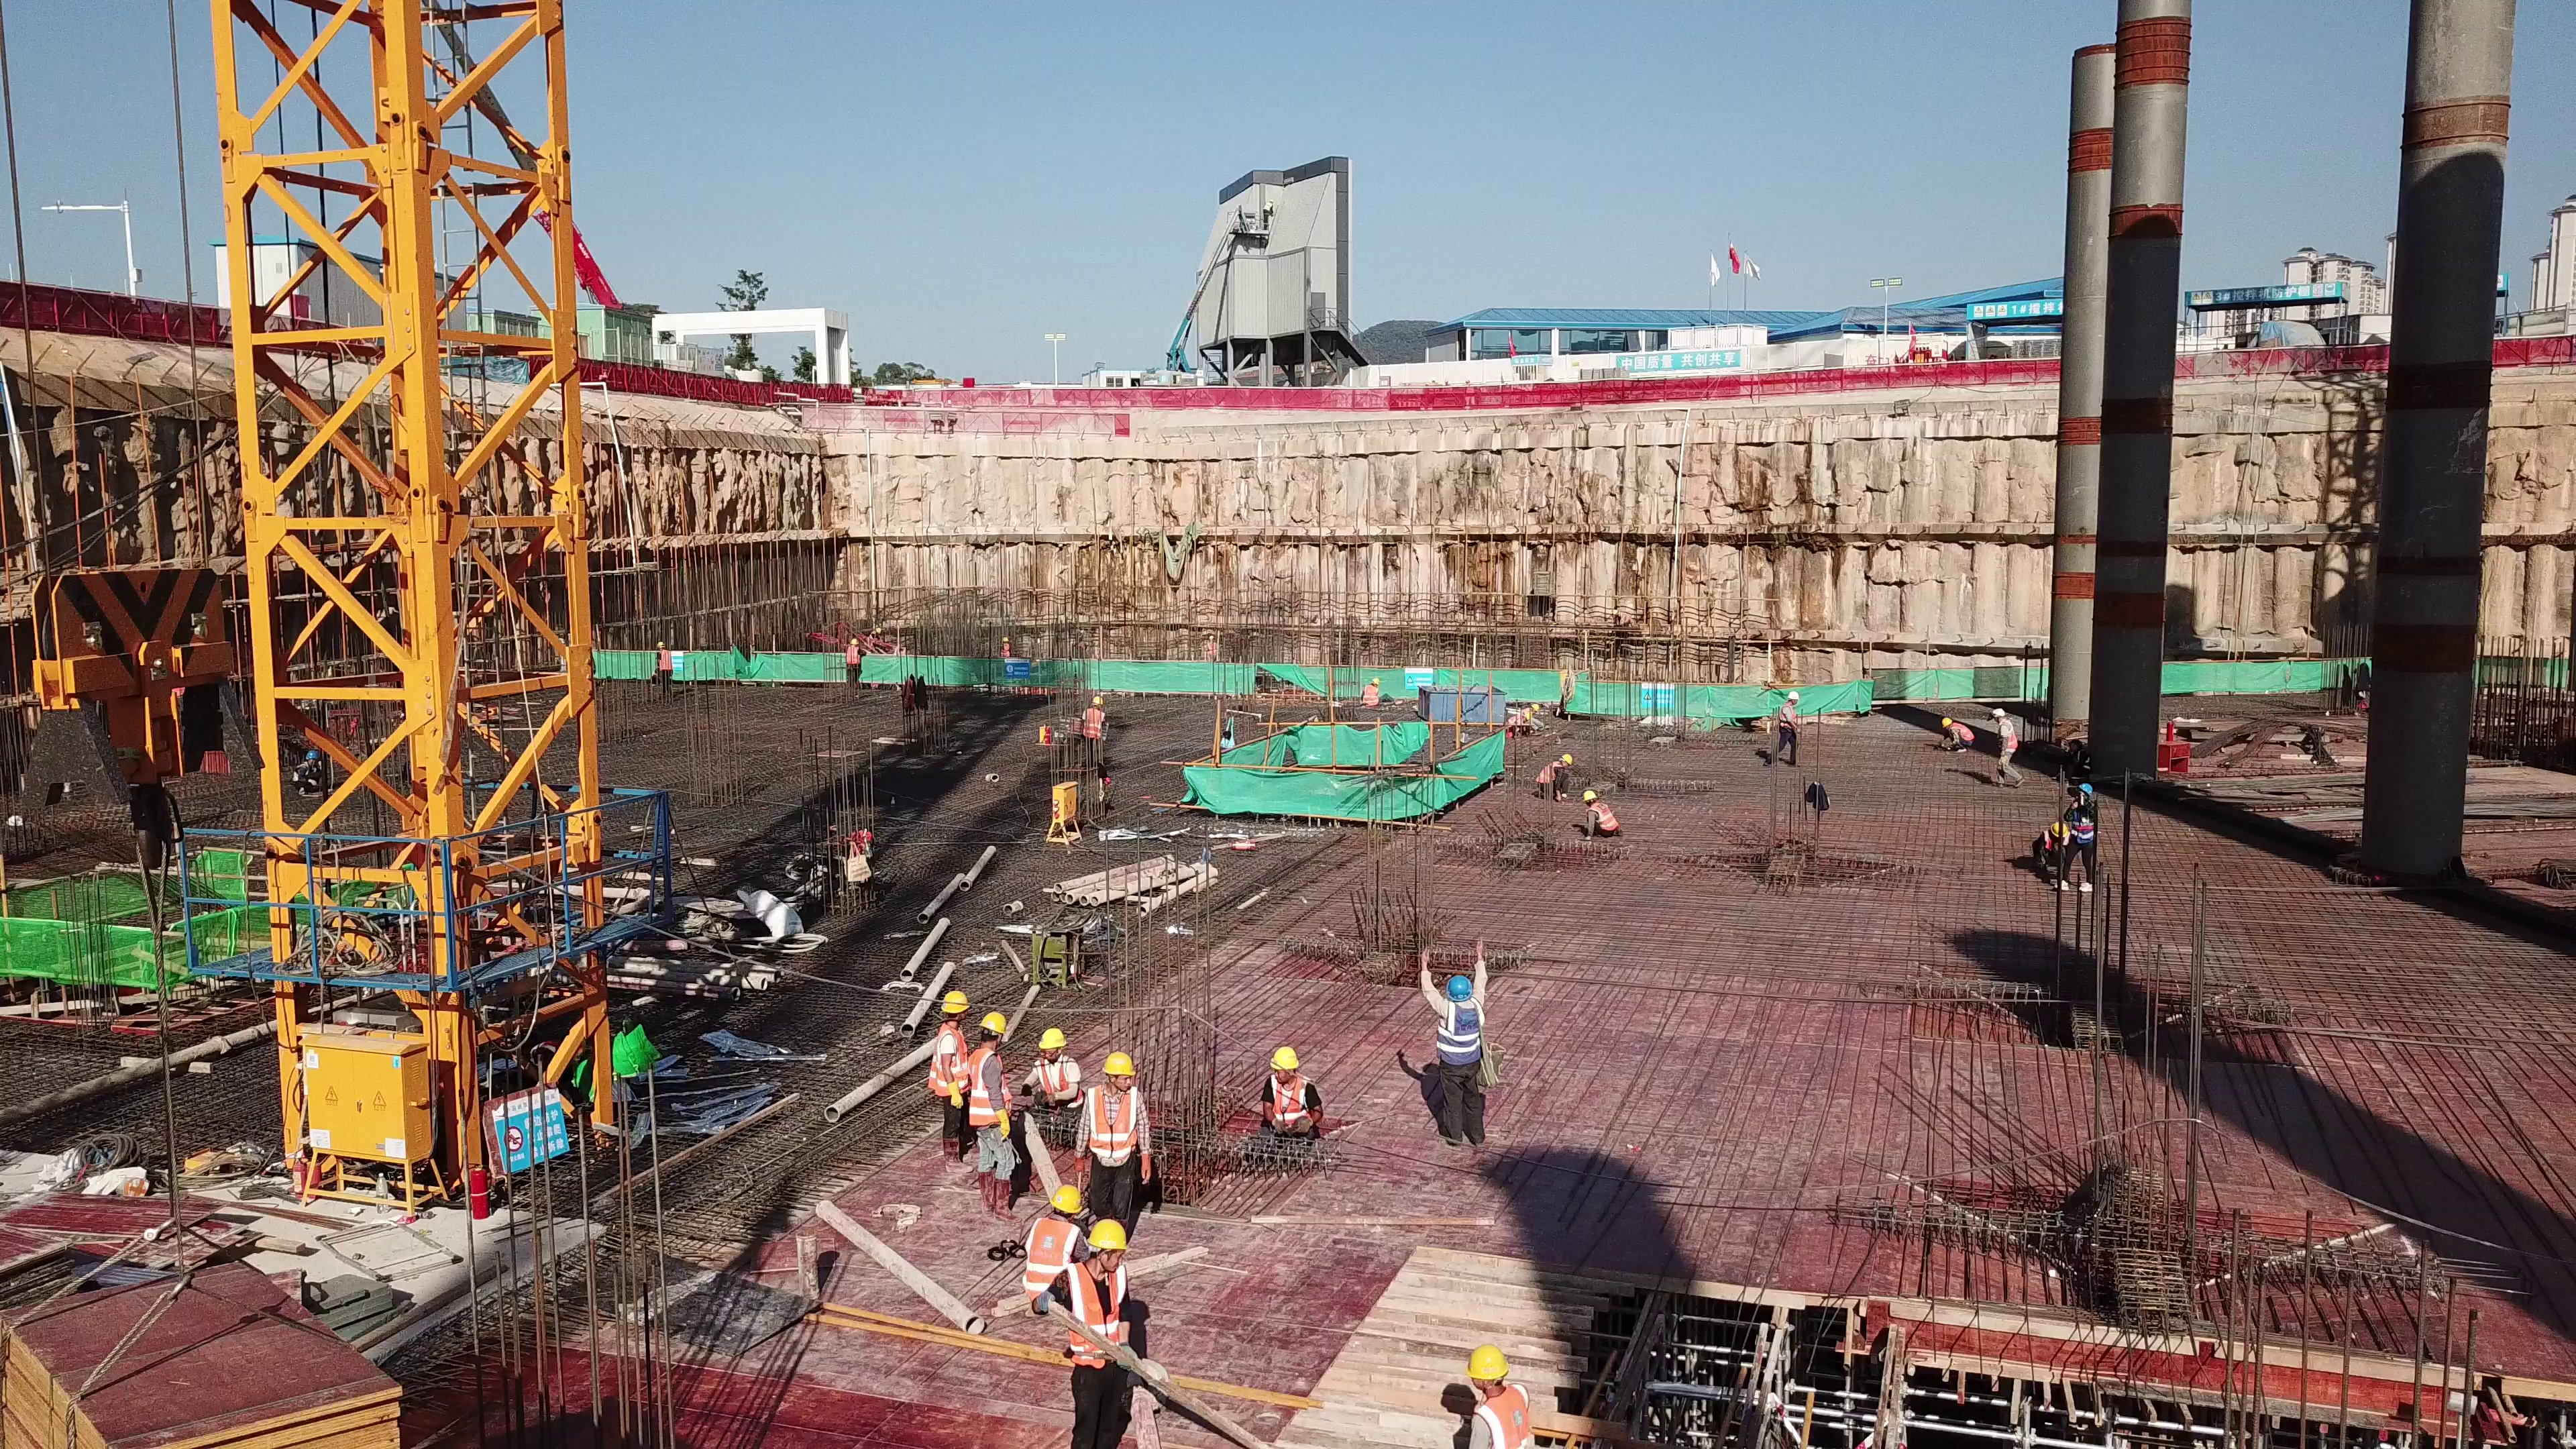helmet: (1468, 1338, 1519, 1382), (1087, 1216, 1129, 1252), (1272, 1042, 1311, 1079), (1102, 1042, 1142, 1075), (1438, 969, 1474, 1004), (1049, 1178, 1081, 1214), (982, 1009, 1009, 1040), (1035, 1030, 1071, 1046), (941, 991, 970, 1010), (1576, 790, 1599, 804), (2051, 820, 2070, 835), (2078, 782, 2094, 796), (1941, 714, 1954, 725), (1091, 695, 1107, 706), (1788, 689, 1800, 700), (1993, 708, 2007, 716), (1560, 753, 1573, 763), (307, 750, 321, 759), (1531, 703, 1541, 712), (1525, 710, 1532, 720), (847, 638, 858, 646), (657, 640, 667, 648), (1373, 676, 1381, 684), (875, 628, 883, 633)
person: (1413, 938, 1532, 1160), (1075, 1216, 1144, 1443), (1238, 1032, 1343, 1140), (969, 1004, 1020, 1223), (1446, 1348, 1548, 1449), (1079, 1051, 1155, 1183), (932, 989, 975, 1182), (1022, 1023, 1086, 1109), (2063, 781, 2101, 898), (1026, 1184, 1086, 1258), (1986, 706, 2032, 787), (1768, 688, 1805, 769), (1577, 788, 1626, 845), (1078, 696, 1112, 772), (2029, 819, 2072, 873), (1535, 752, 1578, 806), (291, 748, 326, 808), (647, 637, 680, 699), (1941, 711, 1973, 758), (840, 637, 865, 693), (1511, 700, 1546, 739), (1356, 677, 1388, 710), (1198, 631, 1224, 664), (1608, 604, 1642, 628), (998, 634, 1014, 662), (867, 626, 886, 644)
vest: (1079, 1263, 1125, 1368), (1474, 1386, 1534, 1449), (1438, 1002, 1492, 1070), (965, 1059, 1014, 1128), (1096, 1089, 1129, 1177), (1031, 1226, 1076, 1284), (936, 1028, 967, 1102), (1036, 1065, 1084, 1112), (1270, 1081, 1309, 1135), (2072, 804, 2098, 843), (1589, 804, 1616, 834), (1083, 706, 1106, 737), (1995, 723, 2021, 752), (1776, 706, 1797, 739), (1536, 761, 1560, 786), (292, 759, 315, 786), (1954, 720, 1975, 749), (657, 650, 675, 674), (1362, 686, 1379, 708), (1506, 712, 1524, 729), (846, 647, 861, 665), (869, 628, 875, 645)
